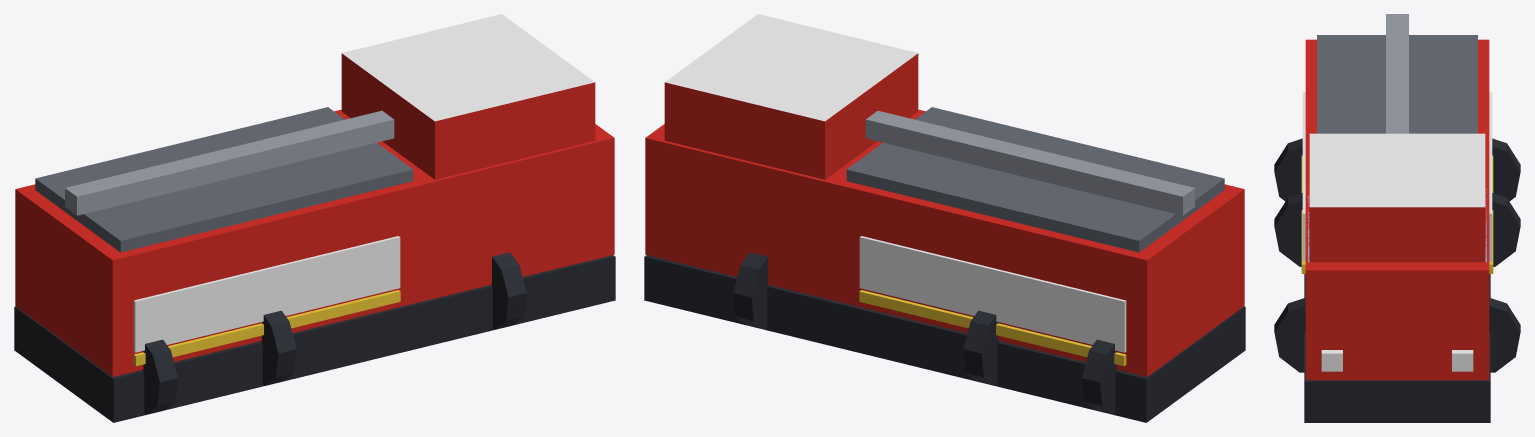
The model's file is camion_bomberos.obj.
The picture shows the model from 3 angles, left to right: view 1: azimuth 30°, elevation 25°; view 2: azimuth 150°, elevation 25°; view 3: azimuth 270°, elevation 25°; orthographic projection. The views are drawn at different scales.
Parts seen in each view (by area): view 1: camion_bomberos; view 2: camion_bomberos; view 3: camion_bomberos.
Boxes of the visible parts, left/top/right/bottom form: camion_bomberos: left=14, top=14, right=615, bottom=422; camion_bomberos: left=644, top=14, right=1245, bottom=422; camion_bomberos: left=1274, top=14, right=1520, bottom=422.
Bounding box in the file's own units: 7.31 × 3.02 × 3.24.
